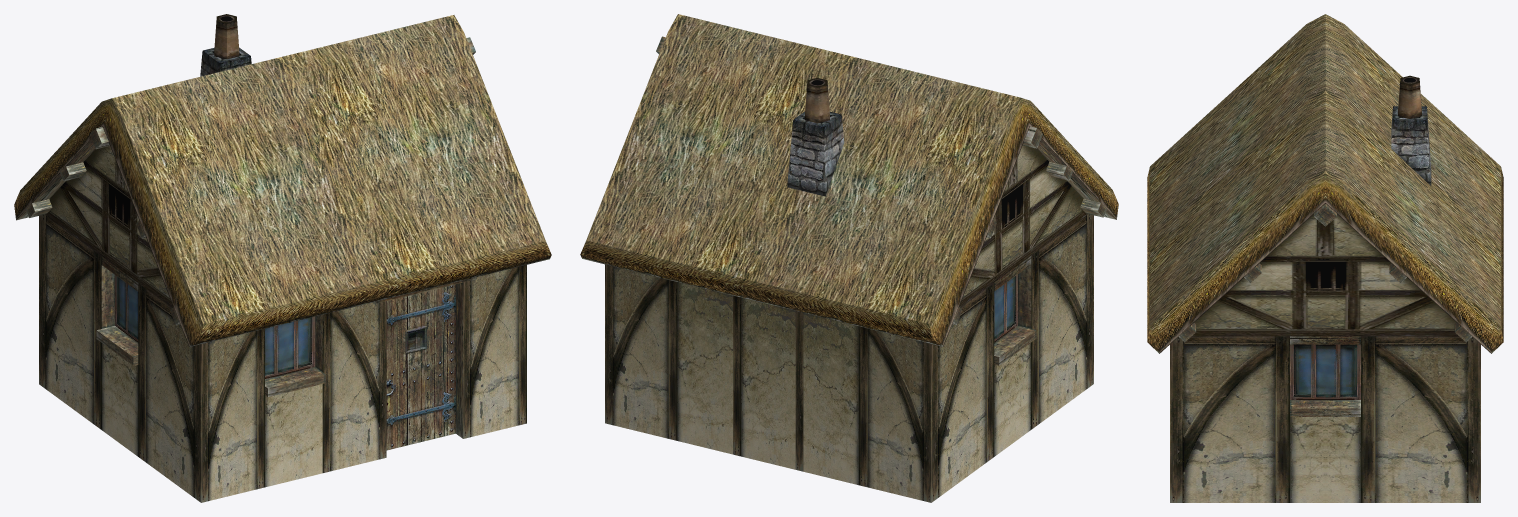
The model's file is S_home04.glb.
3 views of the same model, side by side, from view 1: azimuth 30°, elevation 25°; view 2: azimuth 150°, elevation 25°; view 3: azimuth 270°, elevation 25° (orthographic). The views are drawn at different scales.
Parts seen in each view (by area): view 1: S_home04; view 2: S_home04; view 3: S_home04.
Boxes of the visible parts, x1,y1,x2,y2 form: S_home04: (14,14,551,502); S_home04: (580,14,1118,502); S_home04: (1147,14,1503,502).
Size of the model in its own units: 5.86 by 5.32 by 5.04.
9 materials, 9 textured.
